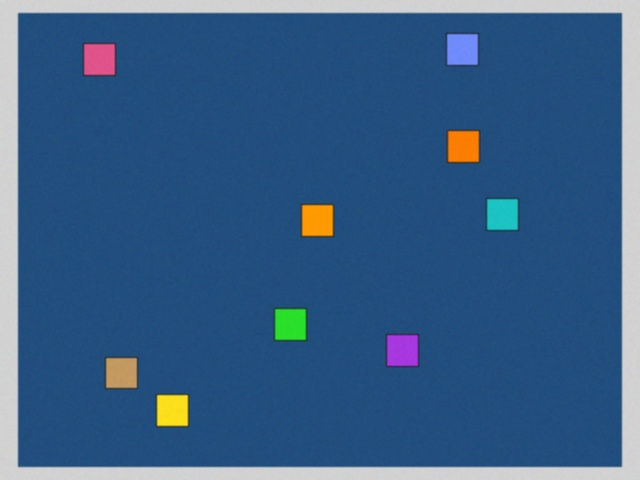block: (84, 43, 127, 84), (439, 33, 478, 75), (106, 351, 148, 389), (157, 386, 196, 426), (440, 130, 479, 166), (477, 198, 518, 231), (383, 329, 418, 367), (274, 305, 307, 341), (302, 205, 333, 237)
